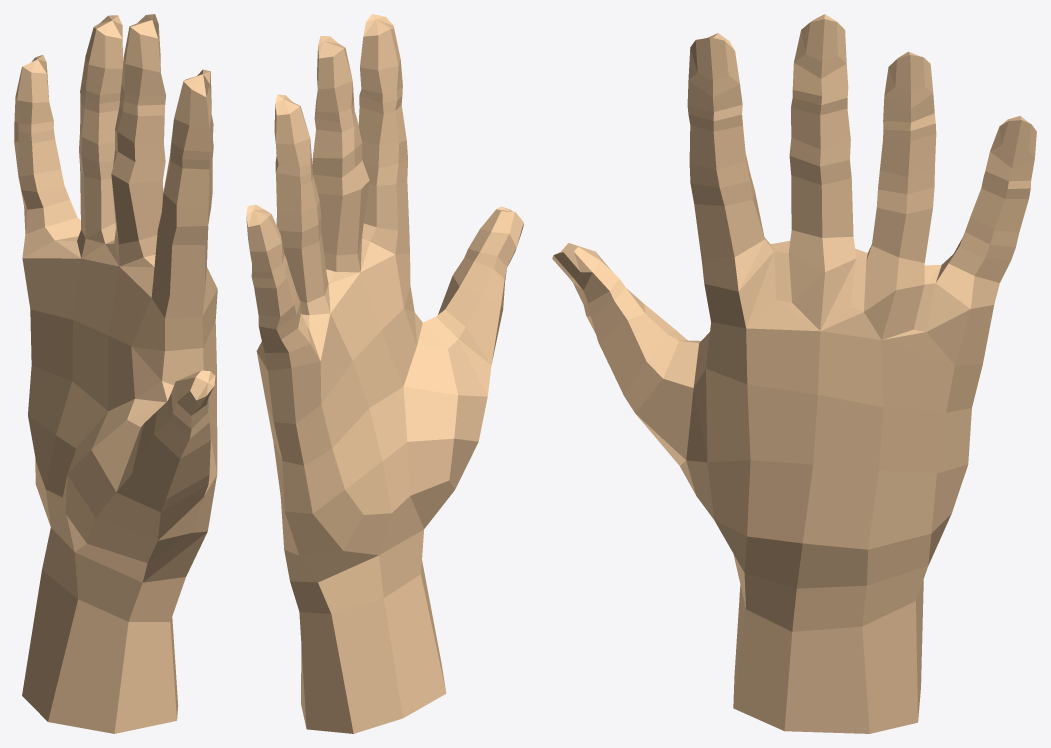
Rendered from hand.fbx.
3 views of the same model, side by side, from view 1: azimuth 30°, elevation 25°; view 2: azimuth 150°, elevation 25°; view 3: azimuth 270°, elevation 25° (orthographic). The views are drawn at different scales.
Parts seen in each view (by area): view 1: hand; view 2: hand; view 3: hand.
Boxes of the visible parts, x1=… form: hand: x1=14, y1=14, x2=217, y2=733; hand: x1=246, y1=14, x2=523, y2=733; hand: x1=552, y1=14, x2=1036, y2=733.
Bounding box in the file's own units: 0.2472 × 1.09 × 0.6682.
